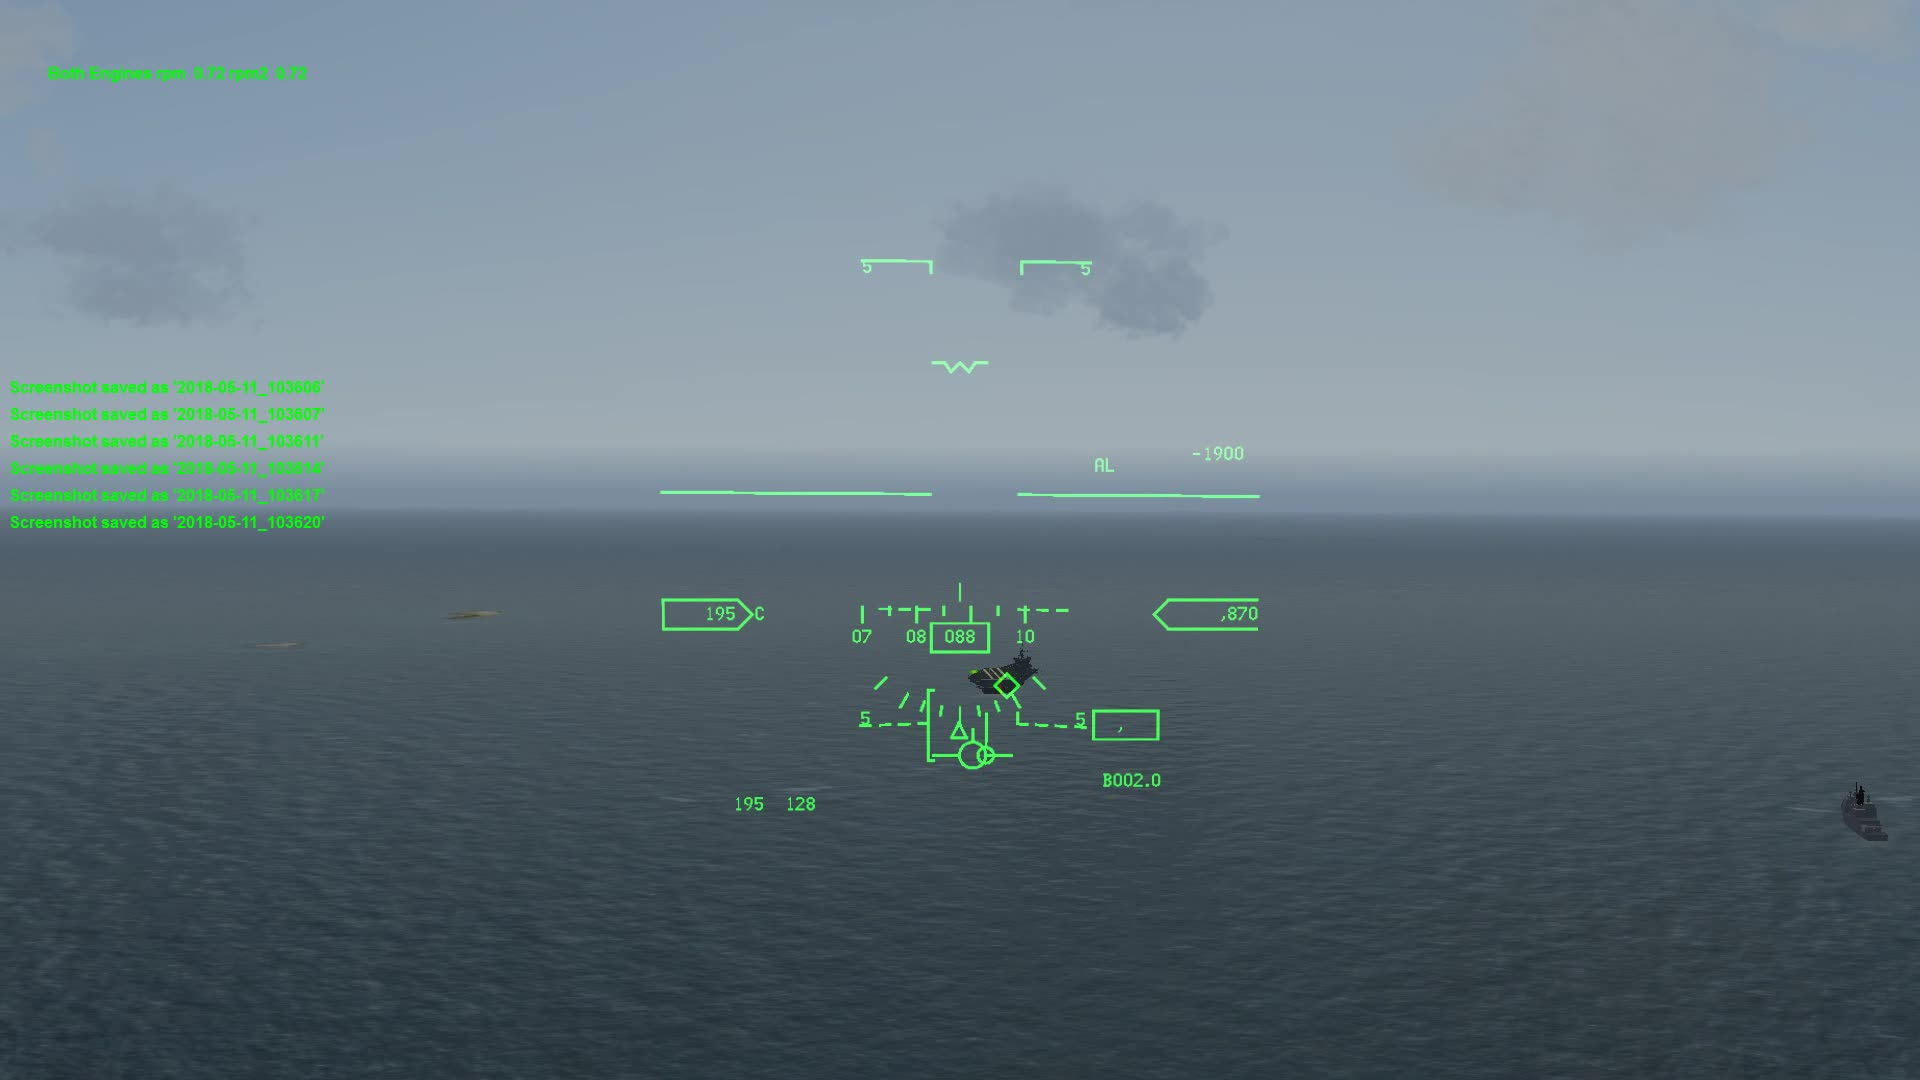speed vector: (951, 733, 1002, 785)
